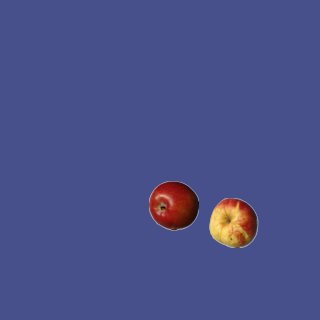Apple Braeburn: (148, 180, 198, 230)
Apple Red Yellow 1: (208, 197, 258, 247)
